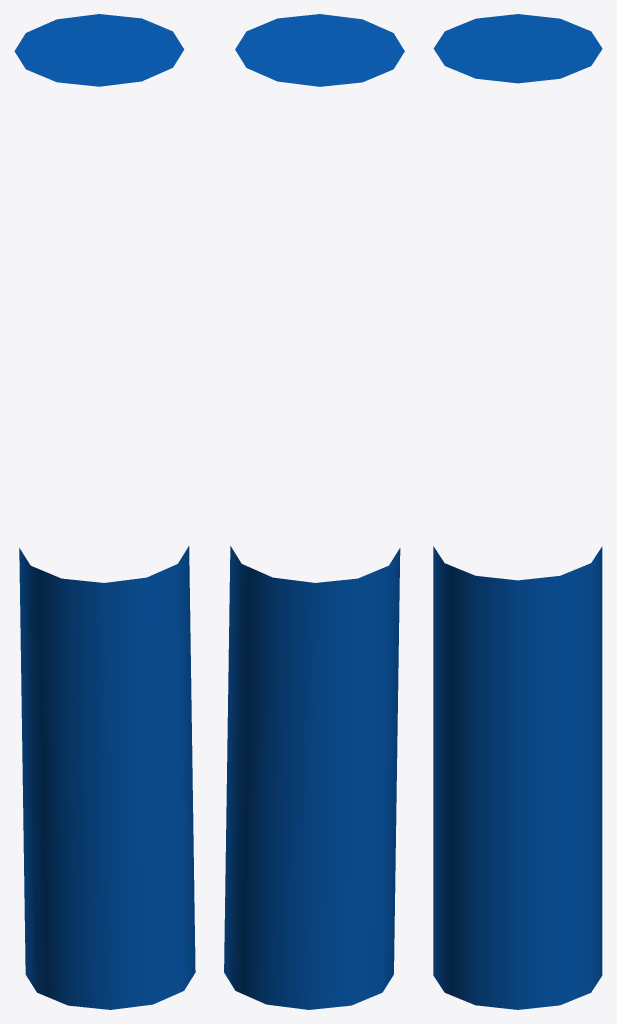
Rendered from 363f5f94-dba5-4537-801a-4e5e015fdd62.glb.
3 renders of one model, left to right at view 1: azimuth 30°, elevation 25°; view 2: azimuth 150°, elevation 25°; view 3: azimuth 270°, elevation 25°, orthographic.
Visible parts, largest first — view 1: 1343, 1348_4854; view 2: 1343, 1348_4854; view 3: 1343, 1348_4854.
Part boxes in pixels (x1,y1,x2,y2): 1343: [19, 546, 195, 1009]; 1348_4854: [14, 14, 184, 86]; 1343: [224, 546, 400, 1009]; 1348_4854: [235, 14, 404, 86]; 1343: [433, 546, 602, 1009]; 1348_4854: [433, 14, 602, 83].
Bounding box in the file's own units: 0.3031 × 1.7 × 0.2822.
